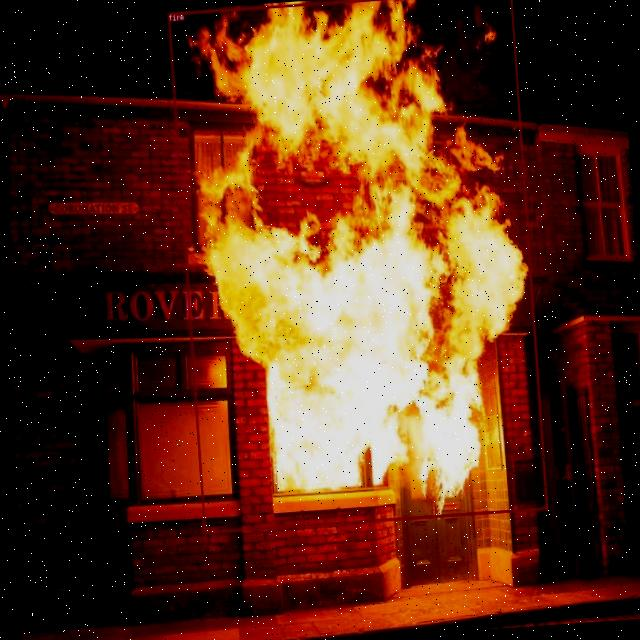fire: (166, 0, 547, 533)
